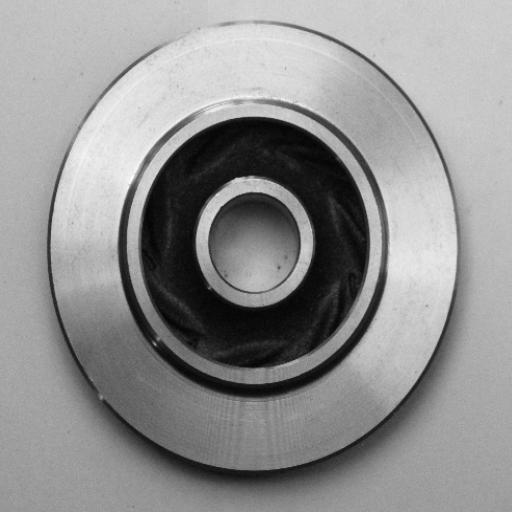scratch: (177, 88, 273, 129)
unpolished_casting: (47, 19, 464, 479)
